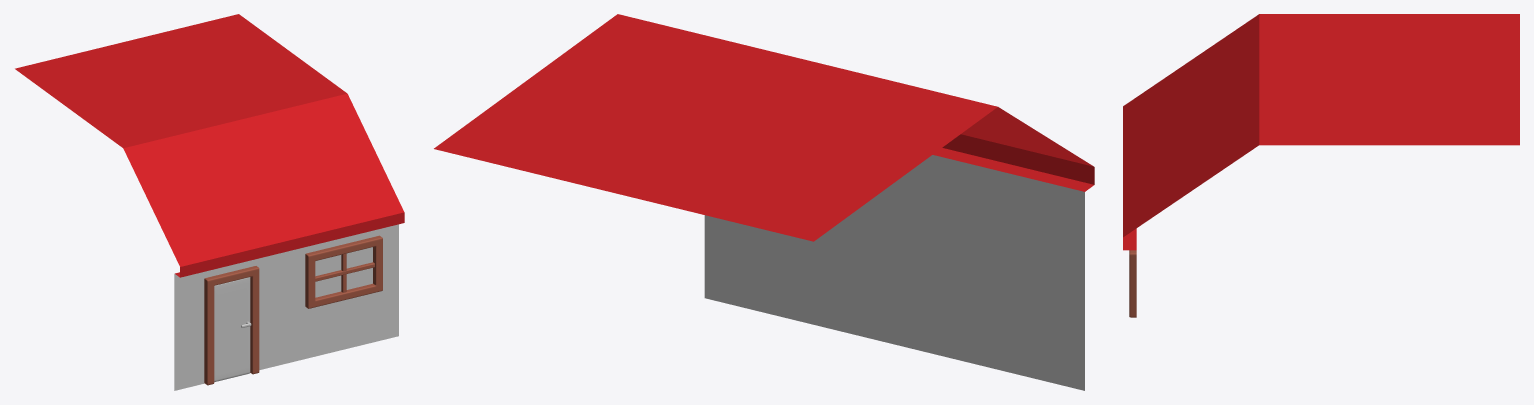
The model's file is House.fbx.
The picture shows the model from 3 angles, left to right: view 1: azimuth 30°, elevation 25°; view 2: azimuth 150°, elevation 25°; view 3: azimuth 270°, elevation 25°; orthographic projection. The views are drawn at different scales.
Parts seen in each view (by area): view 1: Wall, Door, Window; view 2: Wall; view 3: Wall, Window.
Boxes of the visible parts, box(x1,y1,x2,y2) form: Wall: box(15, 14, 404, 390); Door: box(204, 266, 259, 385); Window: box(305, 235, 382, 308); Wall: box(434, 14, 1094, 390); Wall: box(1123, 14, 1519, 250); Window: box(1129, 250, 1136, 317).
Size of the model in its own units: 400 by 349 by 511.
